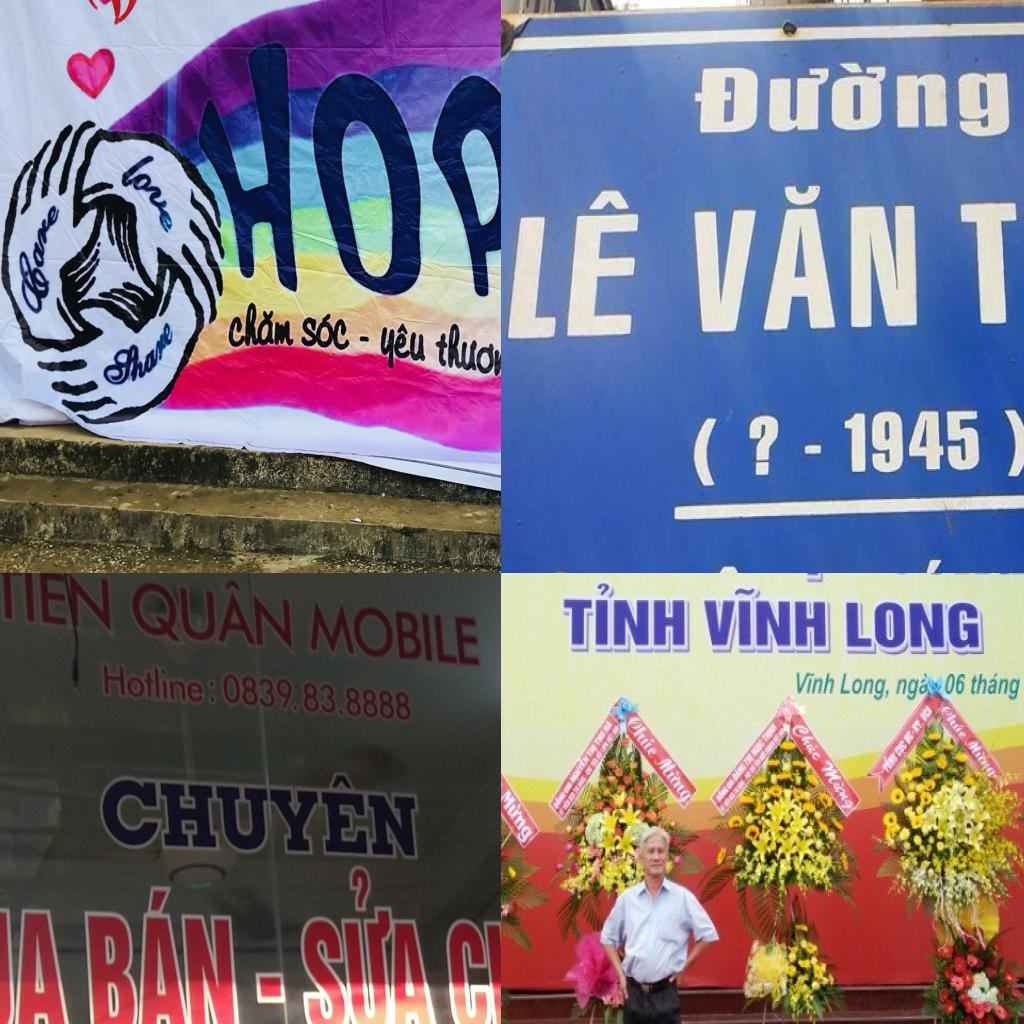text: (166, 35, 501, 324), (691, 179, 921, 338), (101, 763, 433, 863), (692, 55, 1014, 149), (84, 874, 247, 1024), (289, 867, 442, 1024), (505, 186, 644, 344), (308, 584, 494, 677), (124, 573, 295, 657), (217, 664, 418, 730), (956, 166, 1024, 328), (843, 407, 984, 479), (0, 894, 77, 1024), (560, 582, 692, 654), (699, 586, 832, 655), (844, 600, 987, 658), (441, 892, 501, 1024), (0, 573, 117, 640), (94, 317, 182, 406), (61, 0, 235, 44), (98, 651, 220, 711), (112, 139, 185, 236), (432, 311, 501, 401), (224, 301, 296, 351), (376, 314, 428, 374), (296, 307, 353, 357), (816, 757, 859, 816), (648, 755, 695, 808), (690, 415, 722, 490), (747, 412, 782, 479), (501, 786, 537, 848), (623, 714, 662, 762), (838, 672, 893, 704), (967, 672, 1023, 702), (253, 961, 292, 1004), (1002, 406, 1024, 480), (789, 719, 824, 765), (938, 701, 970, 744), (893, 670, 931, 704), (796, 671, 839, 697), (568, 752, 591, 788), (963, 737, 989, 765), (944, 673, 967, 698), (592, 728, 608, 748), (910, 716, 924, 736), (742, 752, 756, 771), (356, 330, 371, 345)
